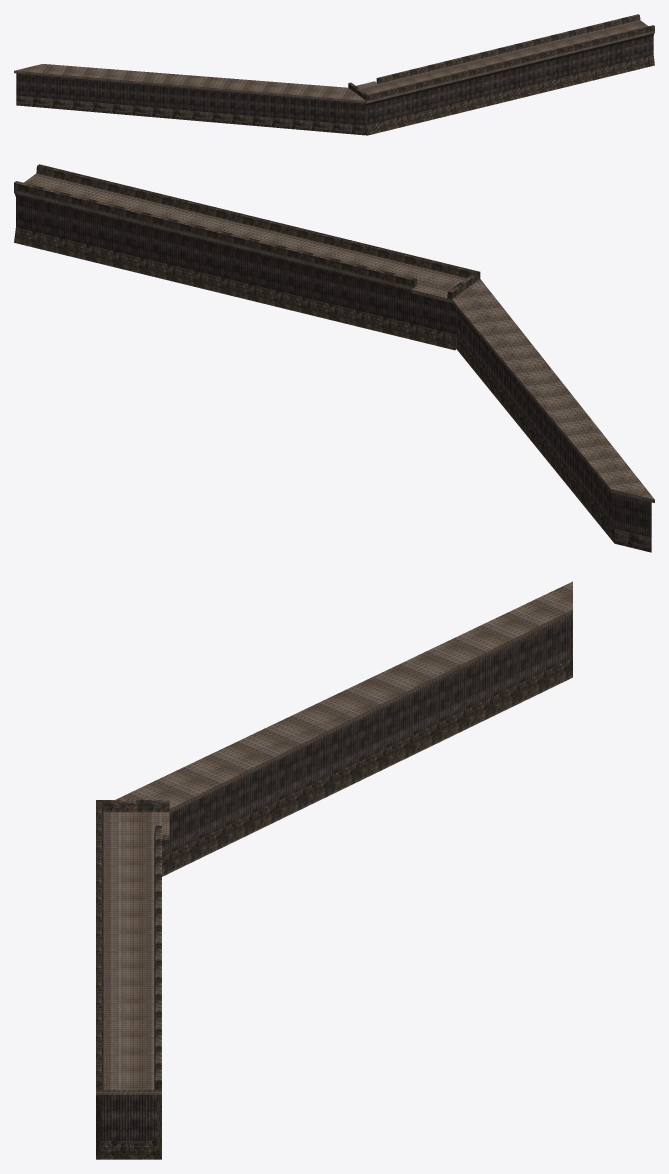
File: components_city_wallsa.glb
The picture shows the model from 3 angles, top to bottom: view 1: azimuth 30°, elevation 25°; view 2: azimuth 150°, elevation 25°; view 3: azimuth 270°, elevation 25°; orthographic projection. The views are drawn at different scales.
Parts seen in each view (by area): view 1: city_wallsa; view 2: city_wallsa; view 3: city_wallsa.
Boxes of the visible parts, <box> form: city_wallsa: <box>14,14,654,135</box>; city_wallsa: <box>14,164,654,552</box>; city_wallsa: <box>96,581,572,1159</box>.
Size of the model in its own units: 237 by 17.25 by 93.75.
3 materials, 3 textured.
